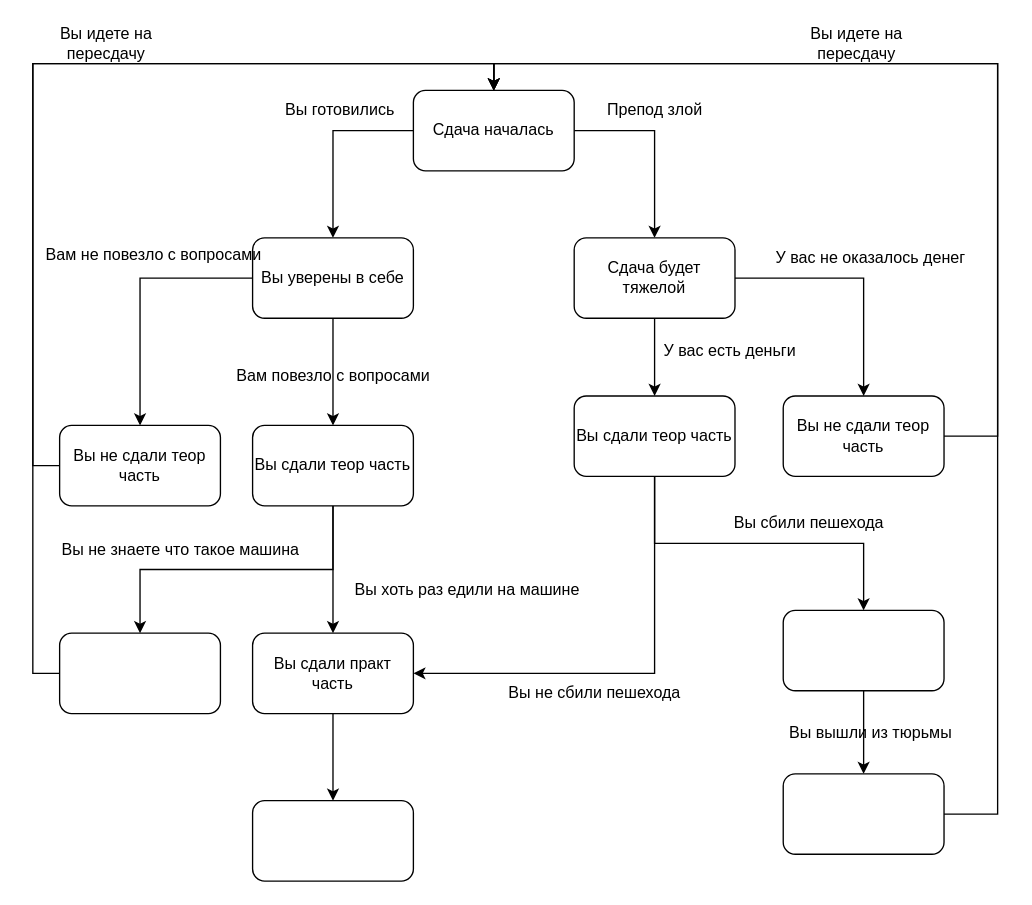
Image size: 1032x905. Some labels were removed from this diagram. The shapes that lost their labels are listed below. From the top down, each one's box as (x1, y1, x2, y2) in pixels, then its label:
(782, 609, 944, 691): Тюрьма
(58, 632, 220, 714): Вы не сдали практ часть
(782, 773, 944, 854): Вам все еще нужны права
(251, 799, 413, 881): Вы сдали экзамен! Покупайте жигули и катайтесь!
